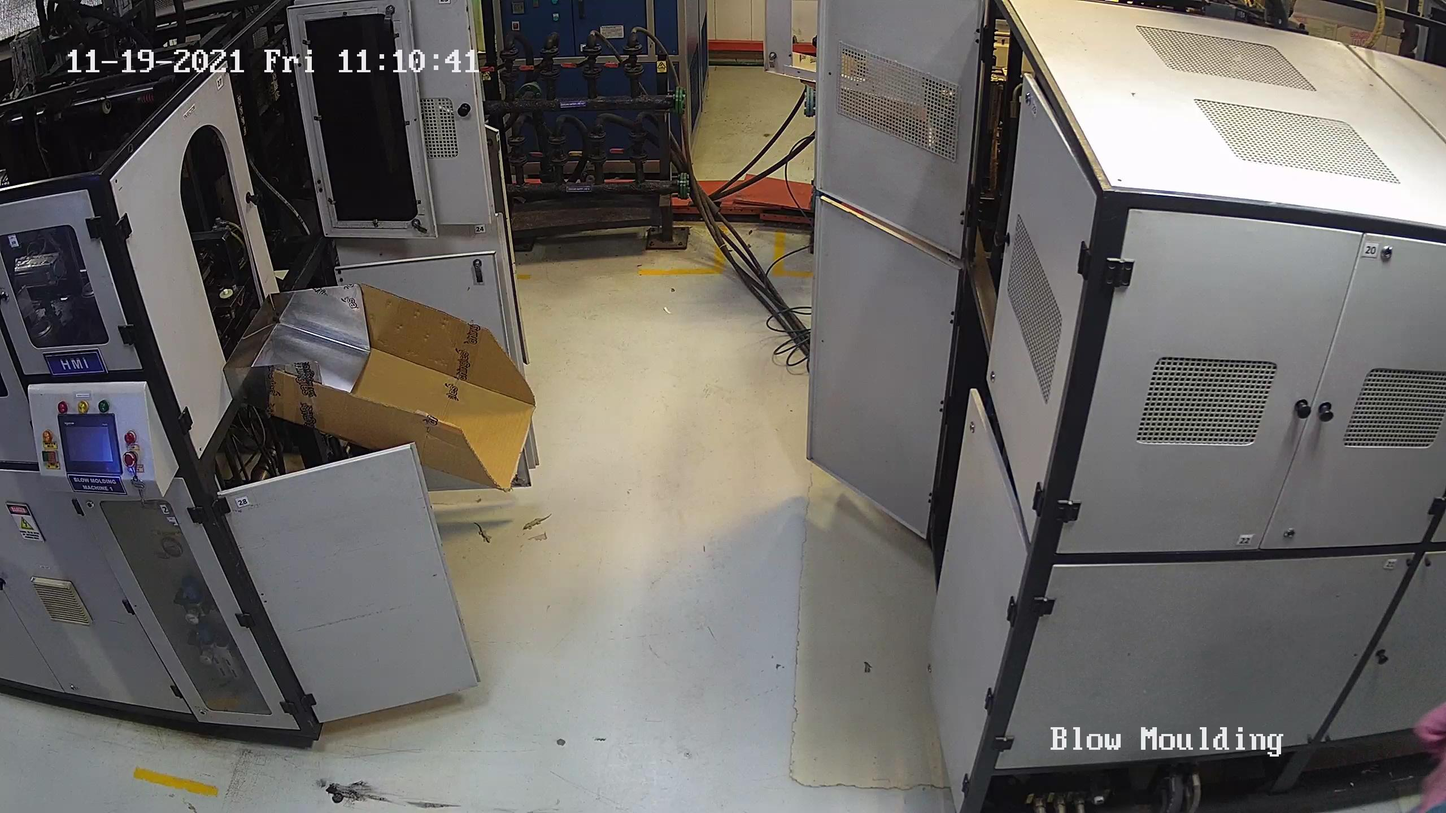lizard: (518, 507, 554, 538), (464, 512, 492, 548)
